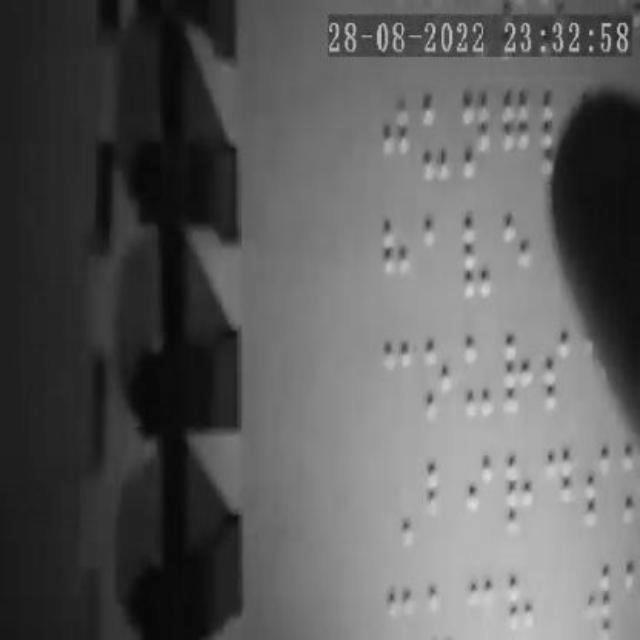braiile: (417, 90, 453, 186), (458, 91, 492, 191), (503, 452, 541, 540), (420, 210, 456, 302), (420, 338, 456, 428), (423, 456, 459, 546), (501, 210, 534, 306), (498, 87, 532, 179), (460, 336, 496, 422), (582, 440, 616, 530), (464, 452, 498, 542), (381, 98, 414, 188), (380, 214, 412, 304), (380, 337, 412, 427), (543, 324, 573, 420), (542, 445, 574, 535), (501, 333, 533, 422), (460, 212, 492, 300)
